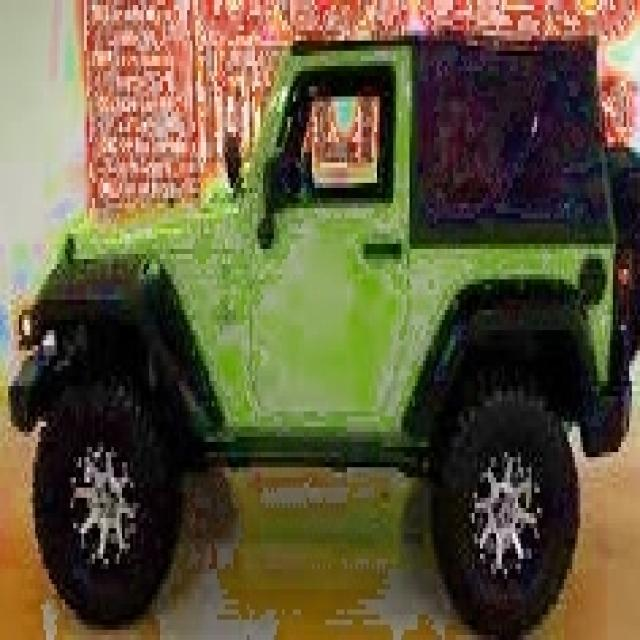green: (19, 10, 640, 640)
